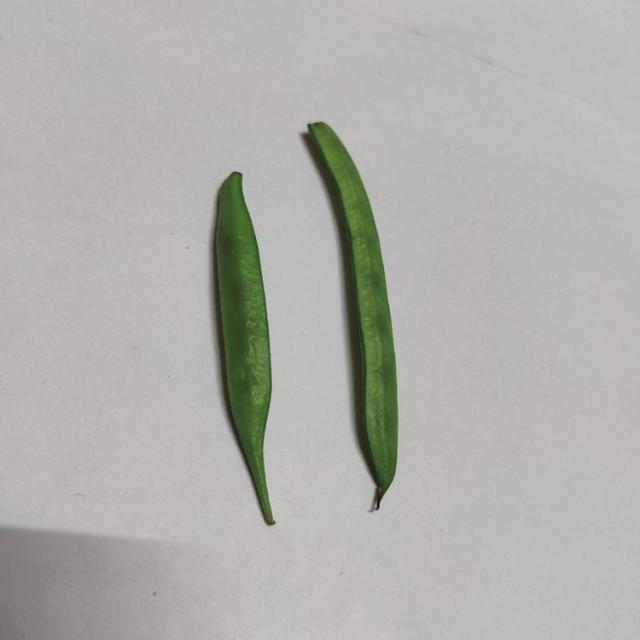Organik: (298, 105, 432, 525), (204, 155, 279, 526)
